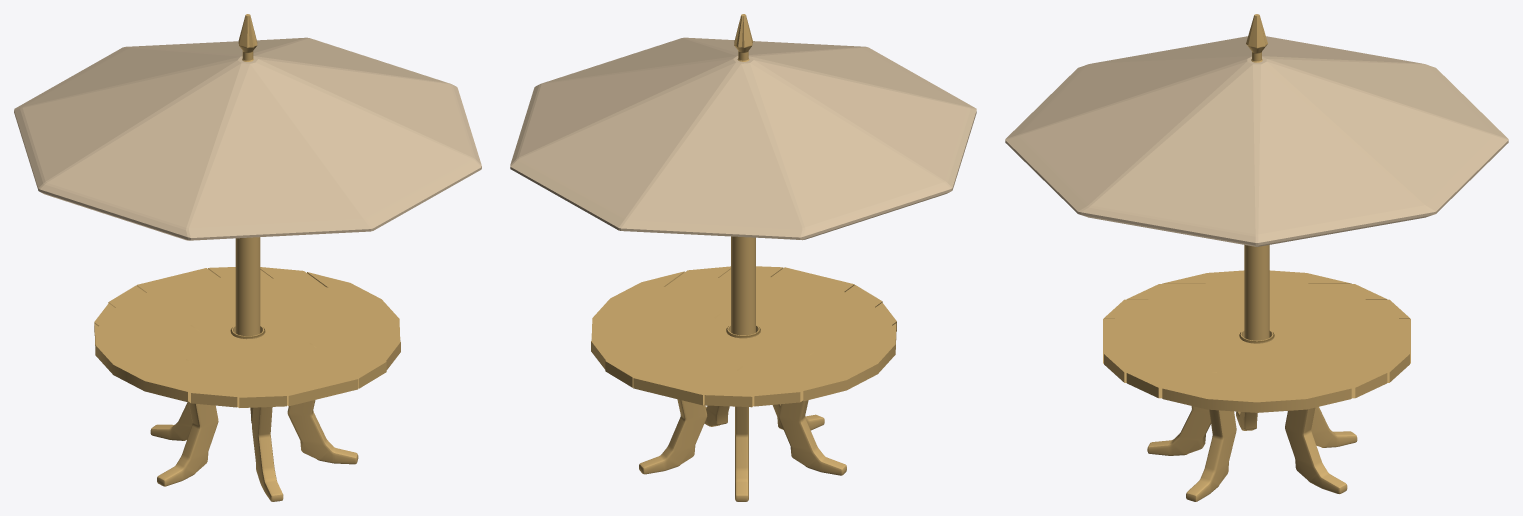
Rendered from Outside table.fbx.
3 views of the same model, side by side, from view 1: azimuth 30°, elevation 25°; view 2: azimuth 150°, elevation 25°; view 3: azimuth 270°, elevation 25° (orthographic).
Parts seen in each view (by area): view 1: pCylinder175, polySurface563; view 2: pCylinder175, polySurface563; view 3: pCylinder175, polySurface563.
Boxes of the visible parts, bbox=[...] form: pCylinder175: bbox=[14, 14, 481, 336]; polySurface563: bbox=[94, 267, 400, 501]; pCylinder175: bbox=[510, 14, 976, 335]; polySurface563: bbox=[591, 266, 896, 501]; pCylinder175: bbox=[1005, 14, 1508, 340]; polySurface563: bbox=[1103, 270, 1410, 501].
Bounding box in the file's own units: 427 × 432 × 439.
